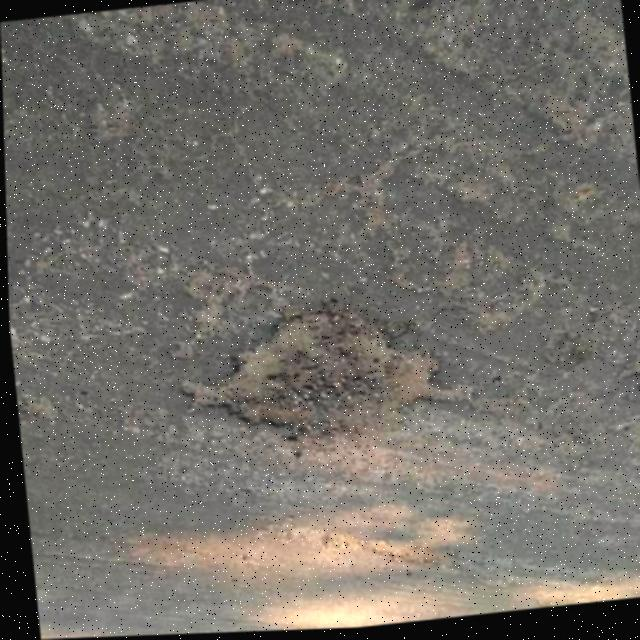Pothole: (167, 294, 478, 460)
